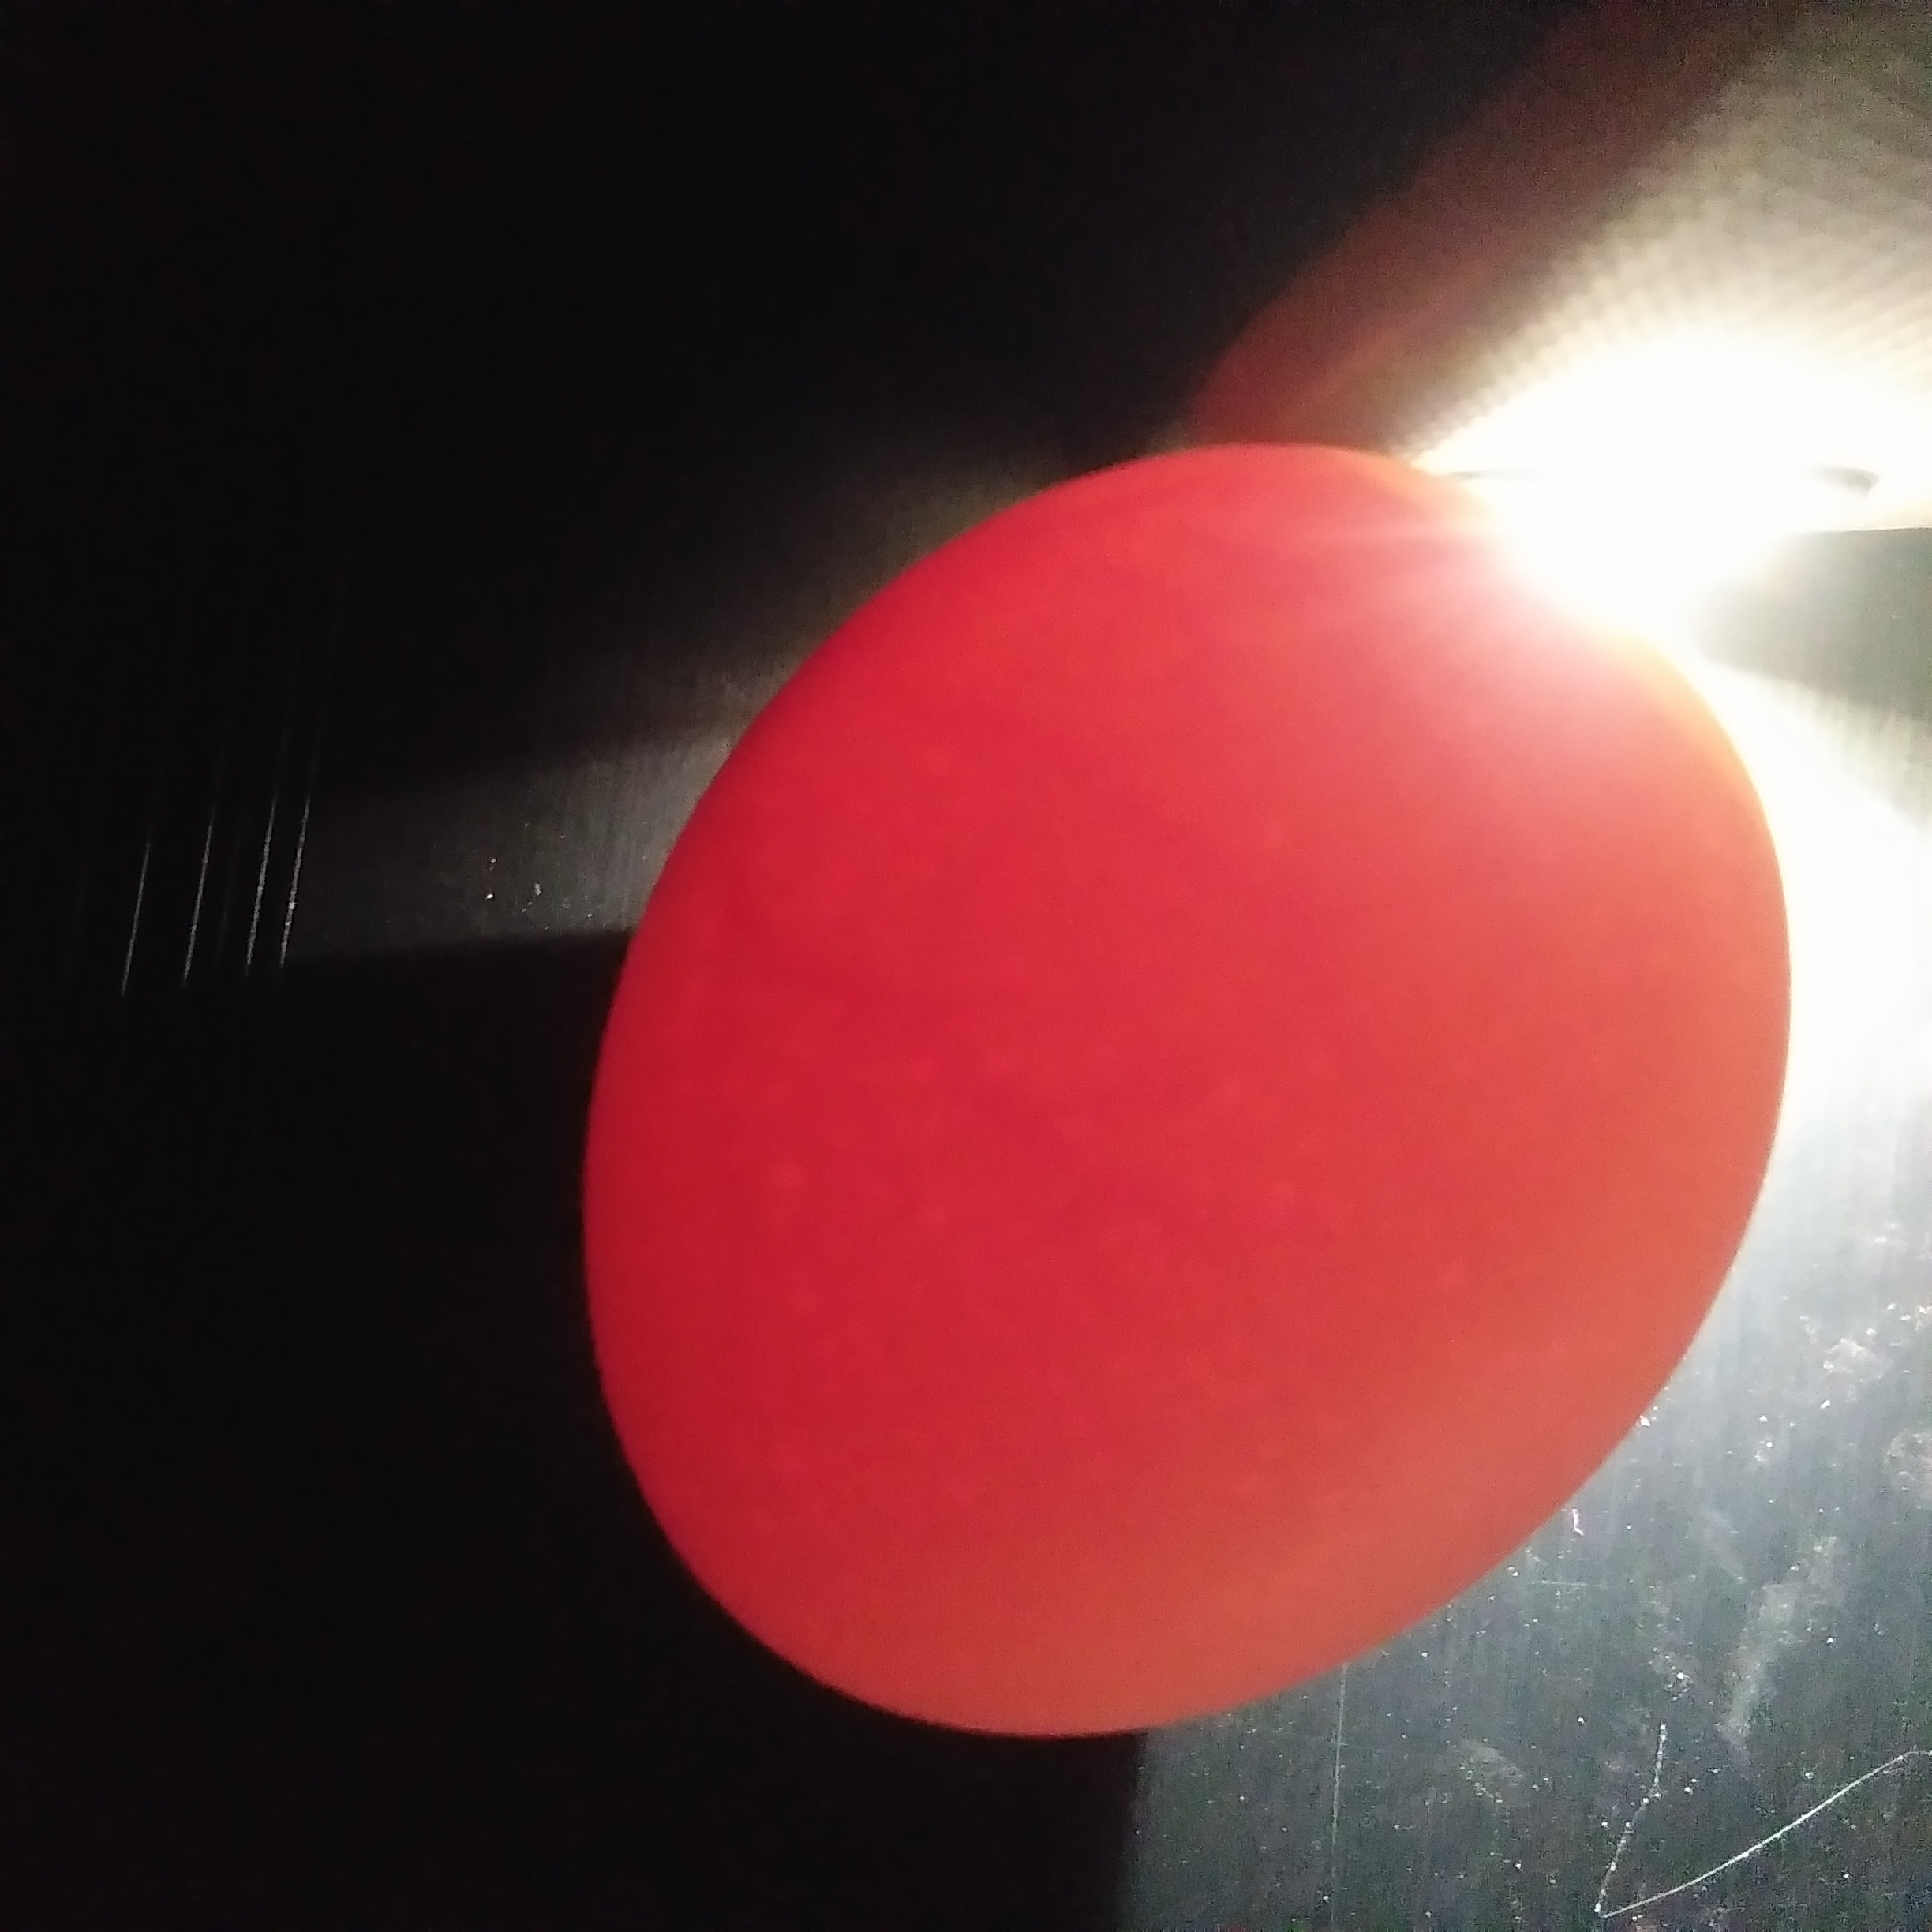bloodcell: (878, 732, 1583, 1184)
